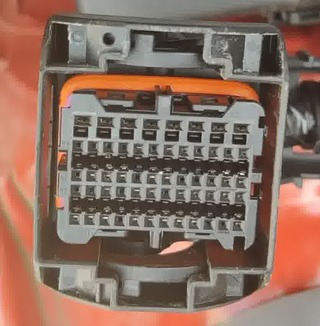connector: (34, 13, 288, 312)
